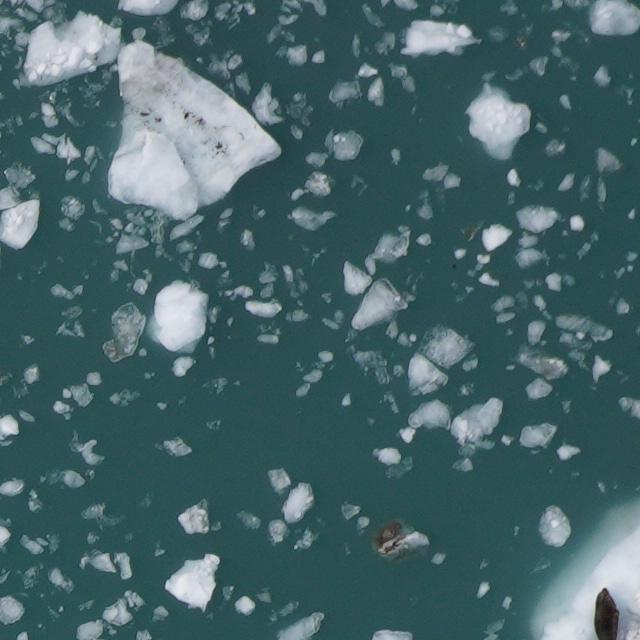seal: (592, 587, 619, 639)
